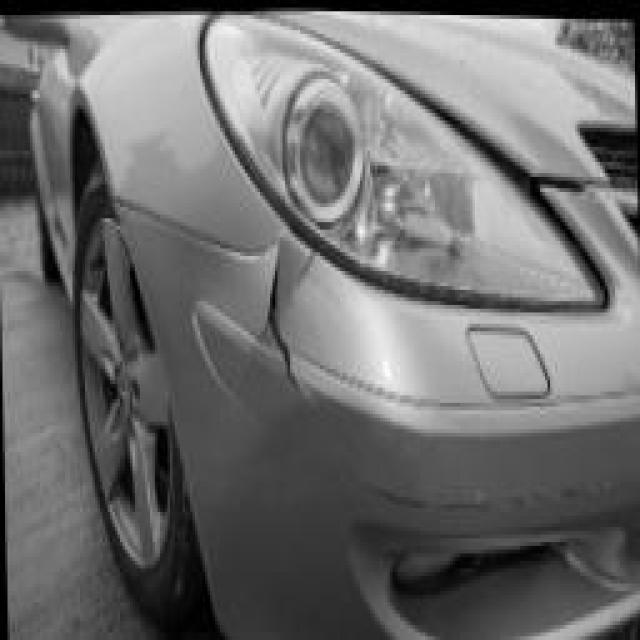Bumper: (255, 226, 342, 450)
